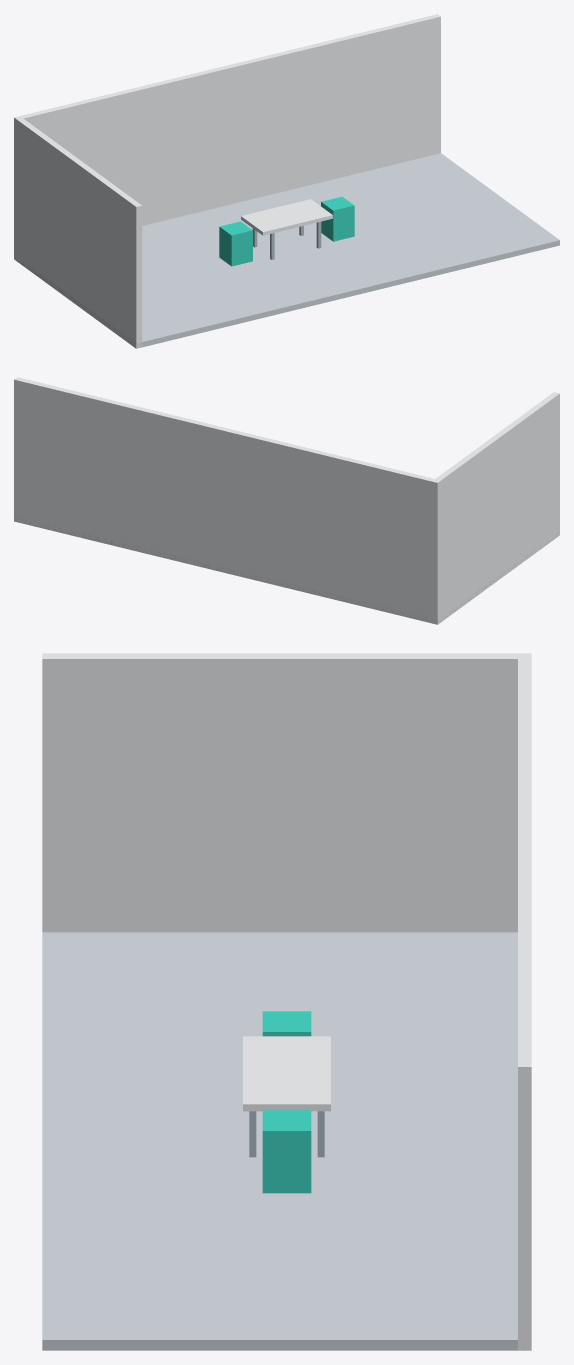
The picture shows the model from 3 angles, top to bottom: view 1: azimuth 30°, elevation 25°; view 2: azimuth 150°, elevation 25°; view 3: azimuth 270°, elevation 25°; orthographic projection. The views are drawn at different scales.
Visible parts, largest first — view 1: Exhibition Booth Concept; view 2: Exhibition Booth Concept; view 3: Exhibition Booth Concept.
Part boxes in pixels (box(x1,y1,x2,y2)): Exhibition Booth Concept: box(14, 14, 559, 348); Exhibition Booth Concept: box(14, 377, 559, 624); Exhibition Booth Concept: box(42, 653, 531, 1350).
Size of the model in its own units: 10 by 3.2 by 5.
